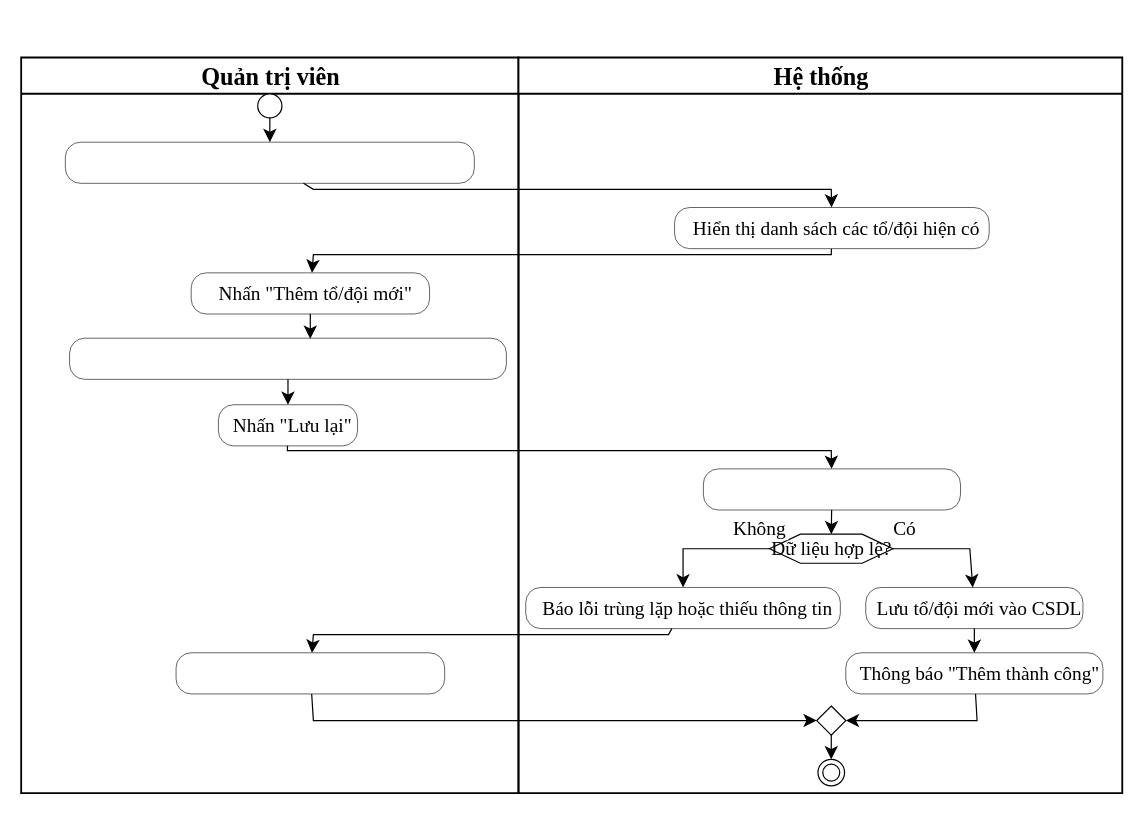
This 1145x816 diagram has some shape labels left out. Each missing label, with the box of its shape:
Chỉnh sửa lại thông tin: (175, 652, 444, 694)
Chọn chức năng "Lập danh mục tổ/đội phụ trách": (64, 141, 474, 183)
Kiểm tra trùng lặp tên tổ/đội: (703, 468, 960, 510)
Nhập thông tin (Tên tổ/đội, Khu vực phụ trách, Mô tả): (69, 337, 506, 379)
